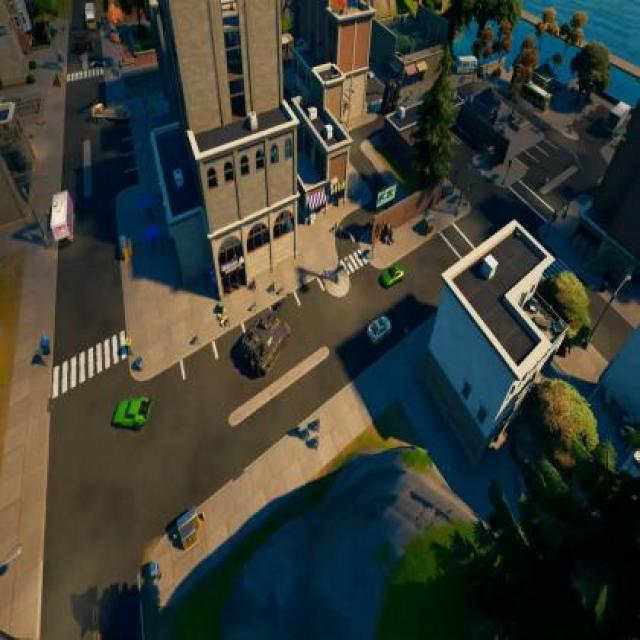tank: (239, 291, 291, 378)
